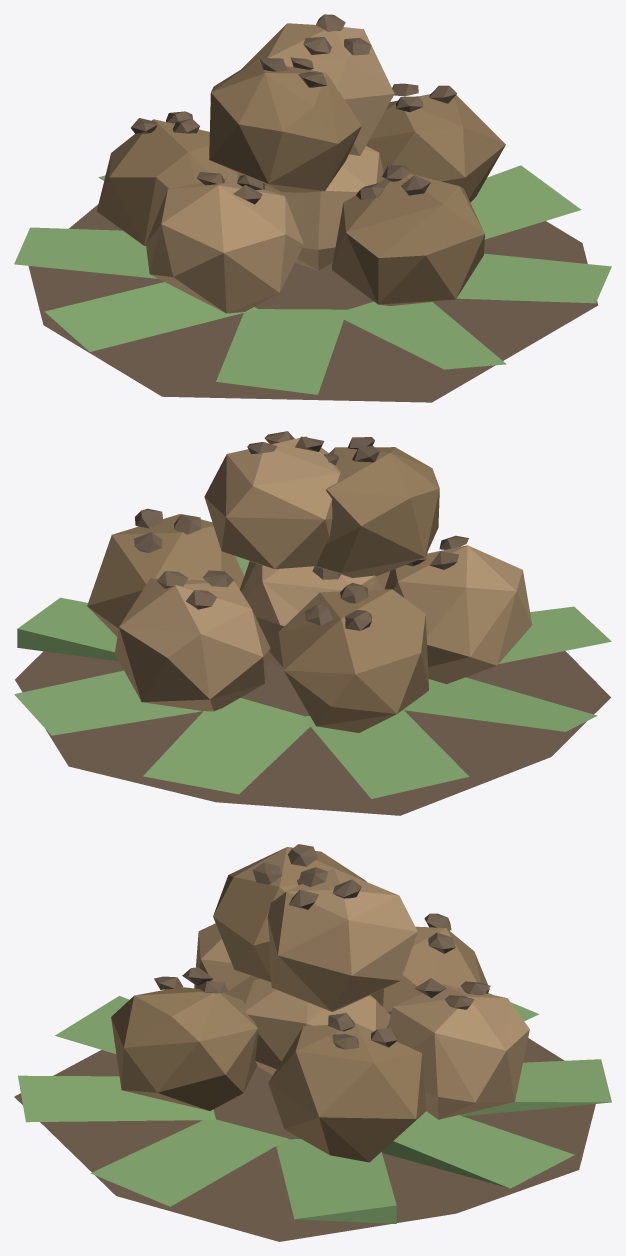
Rendered from 15-Recursos_nido_cocos.glb.
3 renders of one model, top to bottom at view 1: azimuth 30°, elevation 25°; view 2: azimuth 150°, elevation 25°; view 3: azimuth 270°, elevation 25°, orthographic. The views are drawn at different scales.
Parts seen in each view (by area): view 1: SM_Coco_M_Coco_Oscuro, SM_Coco_M_Hoja_Palmera, SM_Coco_M_Hoja_Seca, SM_Coco_M_Coco_Fibra, SM_Coco_M_Coco_Ojos; view 2: SM_Coco_M_Coco_Fibra, SM_Coco_M_Coco_Oscuro, SM_Coco_M_Hoja_Palmera, SM_Coco_M_Hoja_Seca, SM_Coco_M_Coco_Ojos; view 3: SM_Coco_M_Coco_Oscuro, SM_Coco_M_Hoja_Palmera, SM_Coco_M_Coco_Fibra, SM_Coco_M_Hoja_Seca, SM_Coco_M_Coco_Ojos.
Part boxes in pixels (bbox=[...]): SM_Coco_M_Coco_Oscuro: bbox=[97, 59, 505, 305]; SM_Coco_M_Hoja_Palmera: bbox=[14, 165, 611, 394]; SM_Coco_M_Hoja_Seca: bbox=[28, 204, 598, 402]; SM_Coco_M_Coco_Fibra: bbox=[146, 23, 394, 313]; SM_Coco_M_Coco_Ojos: bbox=[131, 14, 456, 204]; SM_Coco_M_Coco_Fibra: bbox=[114, 436, 532, 711]; SM_Coco_M_Coco_Oscuro: bbox=[87, 447, 439, 732]; SM_Coco_M_Hoja_Palmera: bbox=[14, 556, 611, 798]; SM_Coco_M_Hoja_Seca: bbox=[15, 651, 610, 815]; SM_Coco_M_Coco_Ojos: bbox=[134, 431, 468, 630]; SM_Coco_M_Coco_Oscuro: bbox=[111, 847, 489, 1162]; SM_Coco_M_Hoja_Palmera: bbox=[18, 993, 611, 1223]; SM_Coco_M_Coco_Fibra: bbox=[194, 868, 529, 1119]; SM_Coco_M_Hoja_Seca: bbox=[14, 1038, 595, 1241]; SM_Coco_M_Coco_Ojos: bbox=[154, 844, 490, 1049].
Size of the model in its own units: 1.73 by 0.82 by 1.74.
